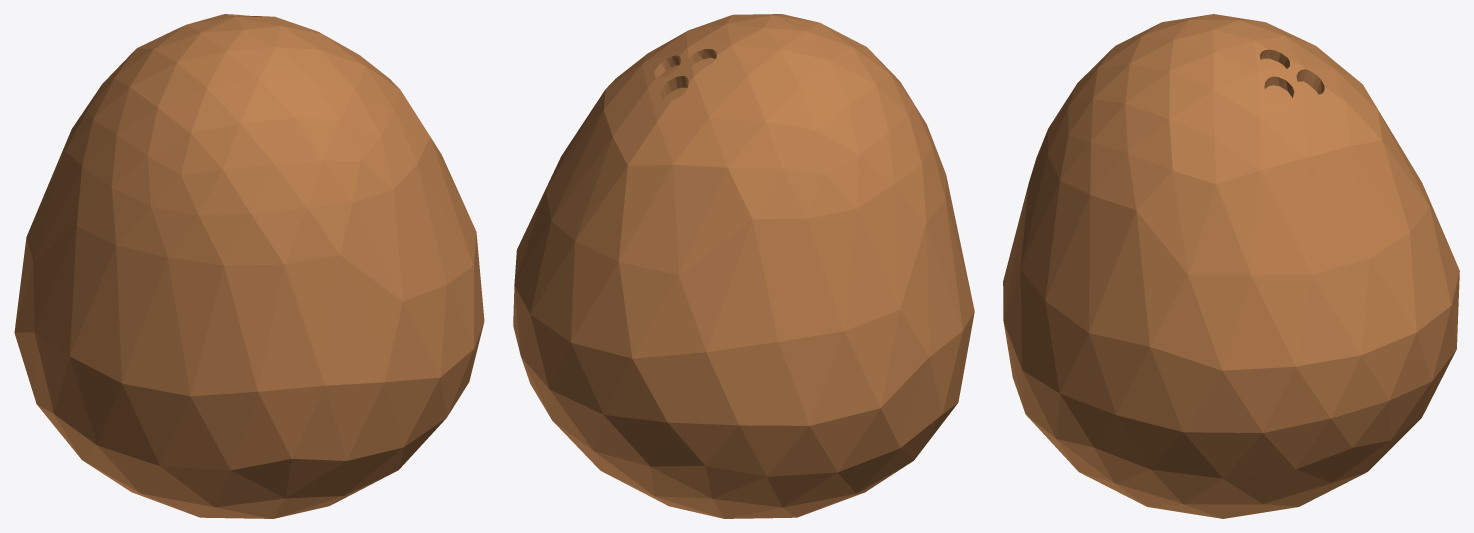
Rendered from Coconut.fbx.
The picture shows the model from 3 angles, left to right: view 1: azimuth 30°, elevation 25°; view 2: azimuth 150°, elevation 25°; view 3: azimuth 270°, elevation 25°; orthographic projection. The views are drawn at different scales.
Visible parts, largest first — view 1: Icosphere; view 2: Icosphere; view 3: Icosphere.
Boxes of the visible parts, <box> form: Icosphere: <box>14,14,484,518</box>; Icosphere: <box>513,14,974,518</box>; Icosphere: <box>1003,14,1459,518</box>.
Bounding box in the file's own units: 503 × 563 × 503.
